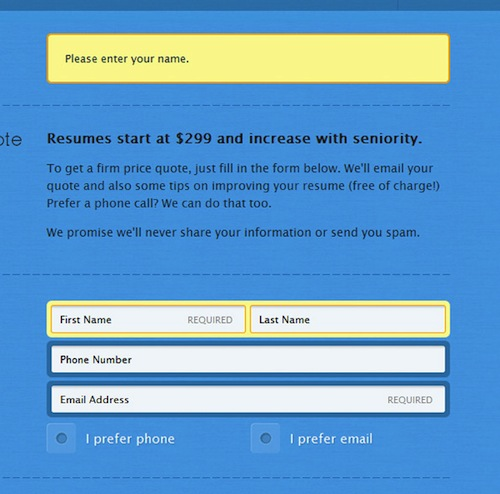_form_: (44, 78, 460, 494), (41, 24, 455, 96), (47, 33, 449, 84)
field: (47, 340, 451, 377), (48, 381, 450, 418), (45, 299, 248, 337), (248, 300, 449, 338)
radio: (46, 423, 79, 454), (250, 423, 281, 451)
radio_with_label: (44, 422, 177, 456), (247, 421, 373, 454)
